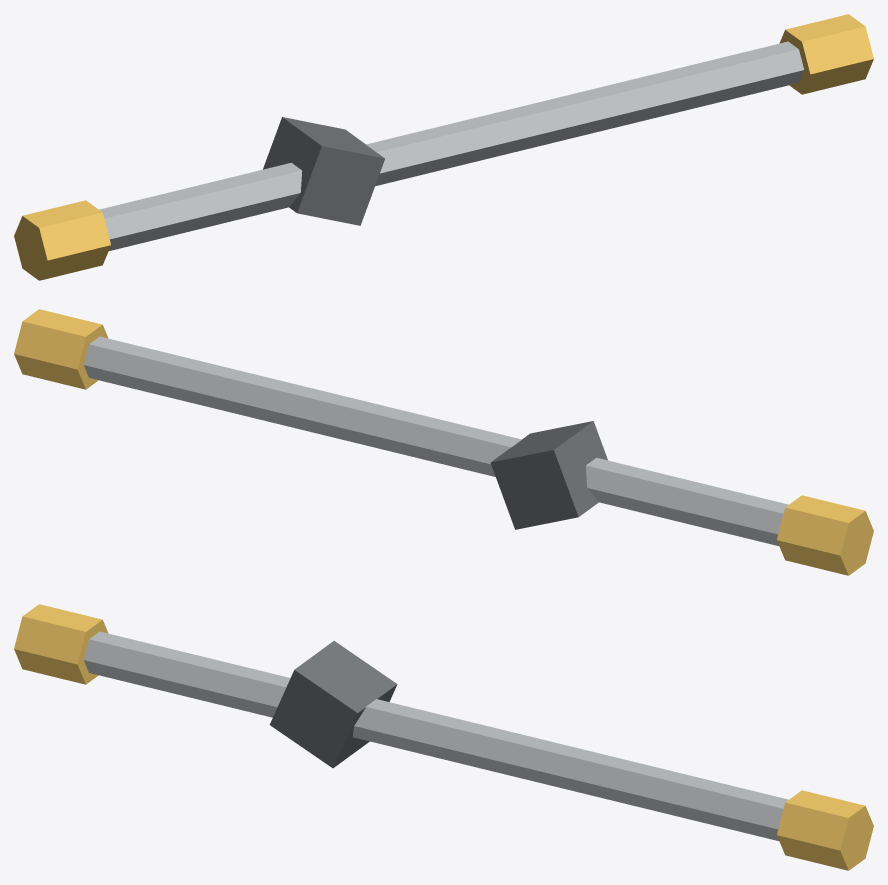
File: Debris_AntennaRod.fbx
3 renders of one model, top to bottom at view 1: azimuth 30°, elevation 25°; view 2: azimuth 150°, elevation 25°; view 3: azimuth 330°, elevation 25°, orthographic.
Visible parts, largest first — view 1: main_rod, mount_block, tip_a, tip_b; view 2: main_rod, mount_block, tip_a, tip_b; view 3: main_rod, mount_block, tip_b, tip_a.
Part boxes in pixels (bbox=[...]): main_rod: bbox=[99, 41, 804, 250]; mount_block: bbox=[263, 117, 384, 225]; tip_a: bbox=[14, 200, 110, 280]; tip_b: bbox=[779, 14, 873, 94]; main_rod: bbox=[83, 336, 788, 545]; mount_block: bbox=[490, 421, 607, 529]; tip_a: bbox=[777, 495, 873, 575]; tip_b: bbox=[14, 309, 108, 389]; main_rod: bbox=[83, 631, 788, 840]; mount_block: bbox=[269, 641, 397, 768]; tip_b: bbox=[777, 790, 873, 870]; tip_a: bbox=[14, 604, 108, 684].
Size of the model in its own units: 156 by 16.12 by 14.
